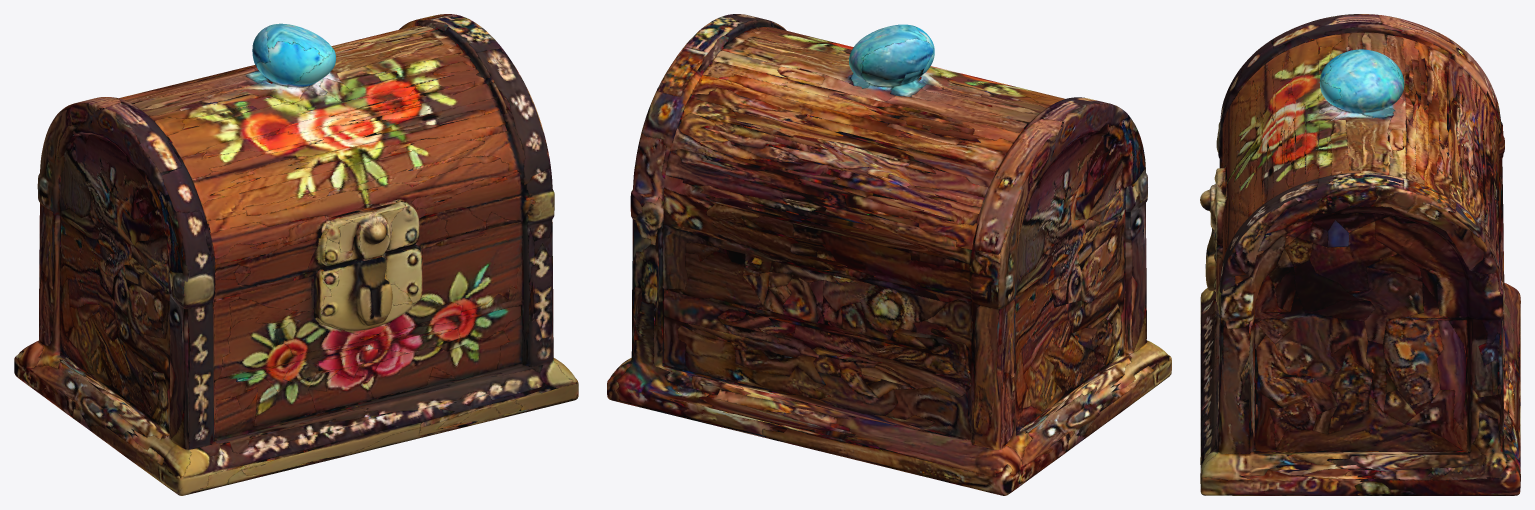
3 views of the same model, side by side, from view 1: azimuth 30°, elevation 25°; view 2: azimuth 150°, elevation 25°; view 3: azimuth 270°, elevation 25° (orthographic). The views are drawn at different scales.
Visible parts, largest first — view 1: texture_v100; view 2: texture_v100; view 3: texture_v100.
Boxes of the visible parts, x1,y1,x2,y2 form: texture_v100: (14,14,578,495); texture_v100: (607,14,1171,495); texture_v100: (1200,14,1520,495).
Size of the model in its own units: 2 by 1.72 by 1.45.
1 material, 1 textured.
